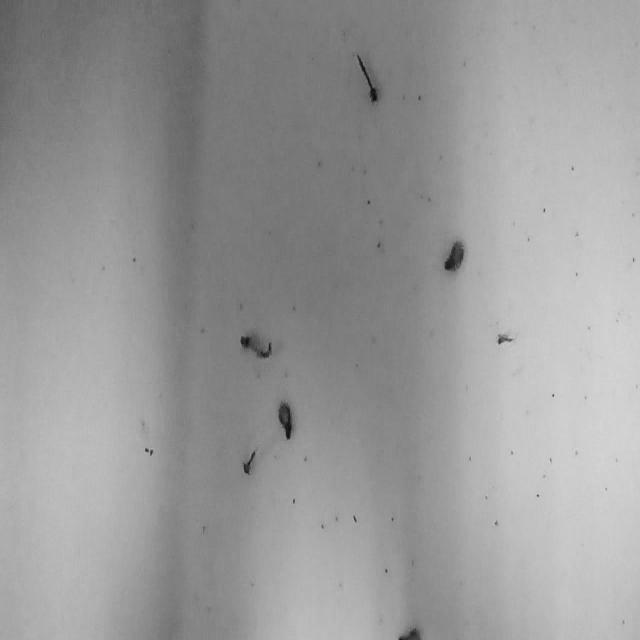larvas: (356, 52, 378, 104), (239, 332, 271, 358), (277, 399, 293, 439), (444, 238, 464, 270), (242, 448, 256, 476), (496, 333, 516, 345)
